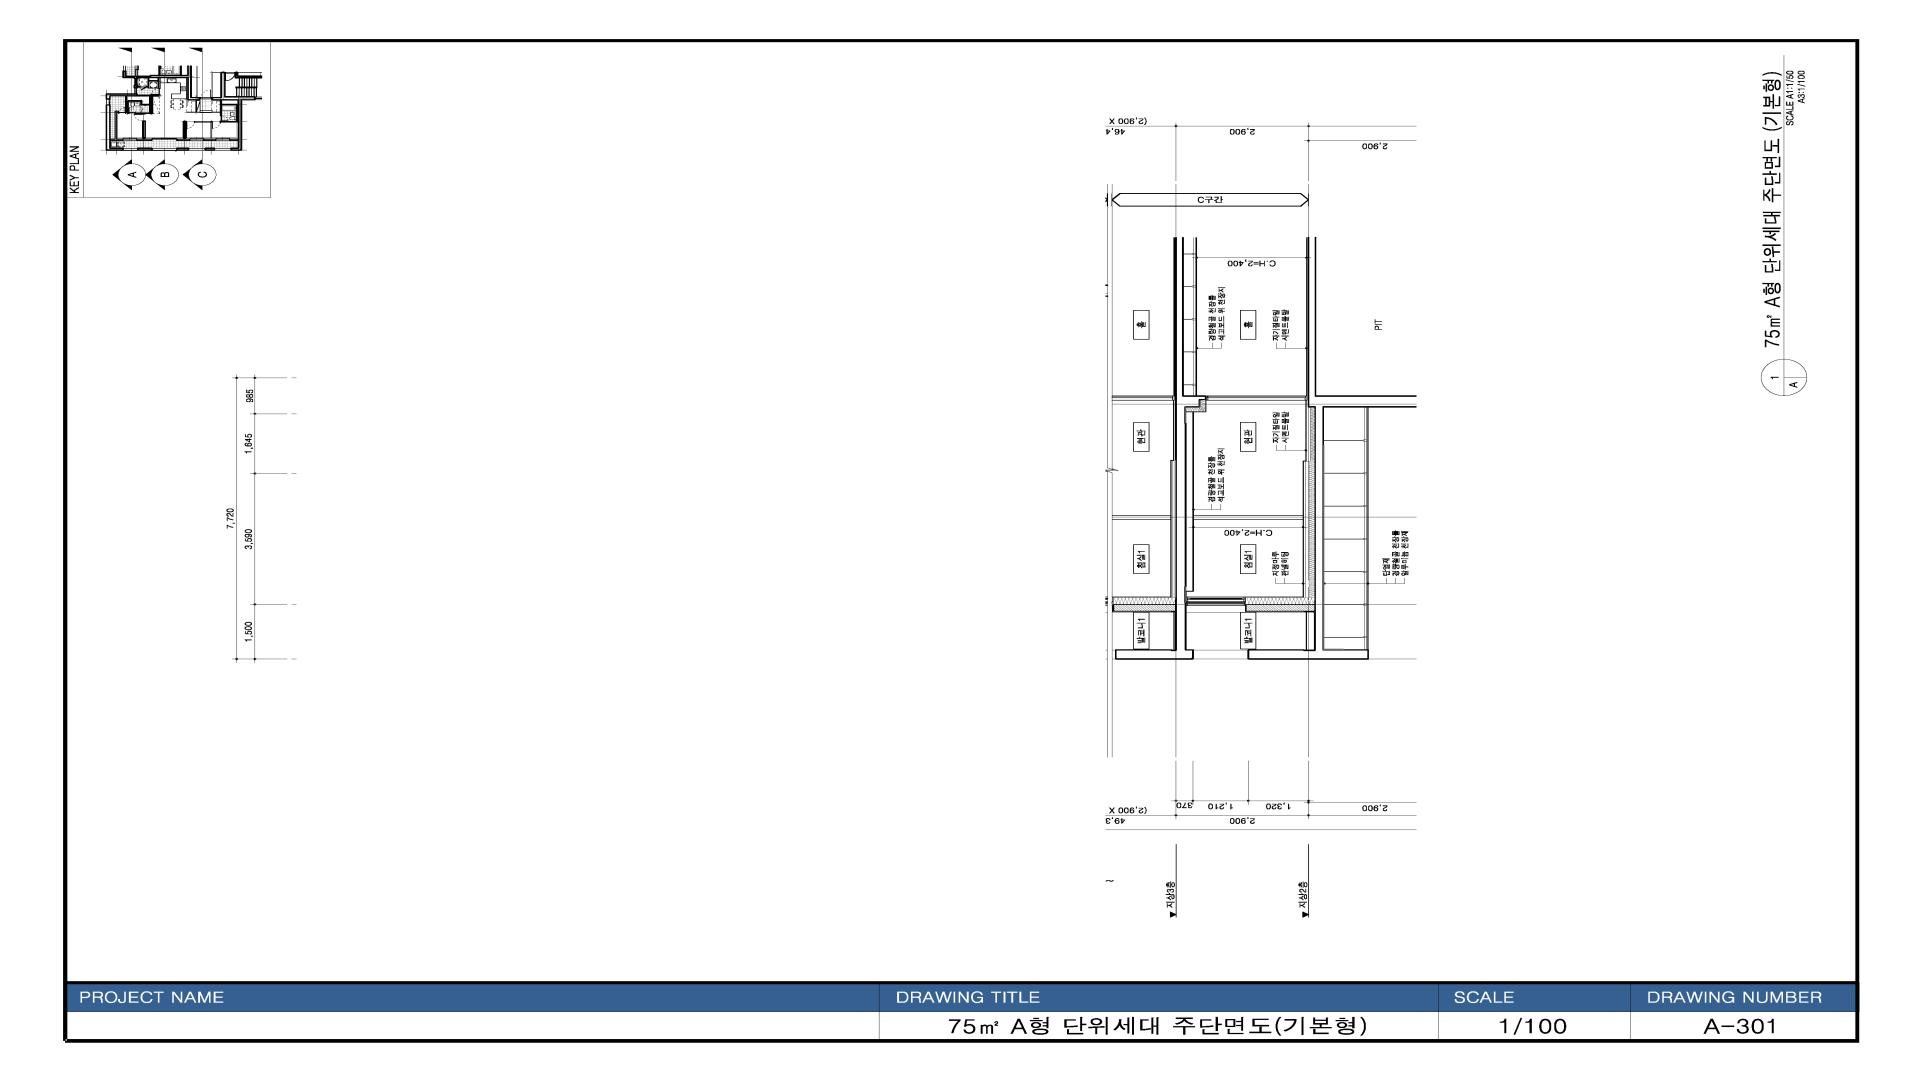door: (1206, 396, 1307, 401)
wall: (1247, 237, 1324, 660), (1173, 237, 1206, 660), (1245, 604, 1315, 612), (1194, 515, 1303, 520)
window: (1186, 597, 1245, 612), (1194, 650, 1247, 659)
